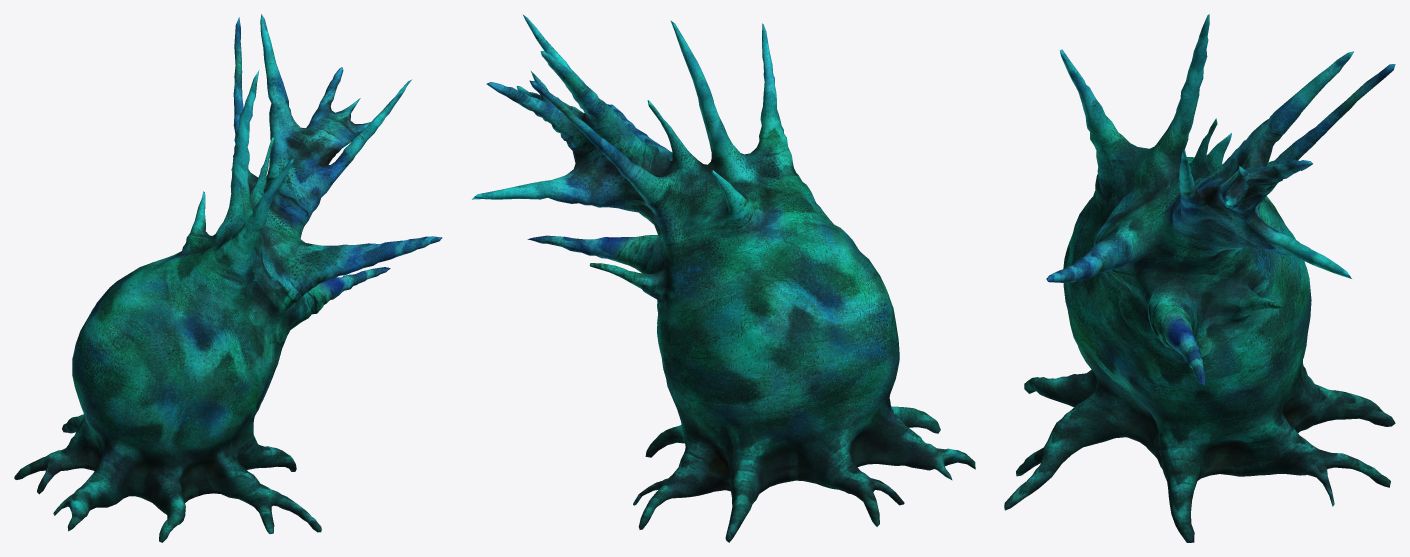
3 views of the same model, side by side, from view 1: azimuth 30°, elevation 25°; view 2: azimuth 150°, elevation 25°; view 3: azimuth 270°, elevation 25° (orthographic). The views are drawn at different scales.
Visible parts, largest first — view 1: SM_APV1_Root_B_LOD0_Root_B_0; view 2: SM_APV1_Root_B_LOD0_Root_B_0; view 3: SM_APV1_Root_B_LOD0_Root_B_0.
Part boxes in pixels (x1=…): SM_APV1_Root_B_LOD0_Root_B_0: x1=14, y1=14, x2=442, y2=542; SM_APV1_Root_B_LOD0_Root_B_0: x1=472, y1=14, x2=975, y2=542; SM_APV1_Root_B_LOD0_Root_B_0: x1=1004, y1=14, x2=1395, y2=542.
Bounding box in the file's own units: 244 × 250 × 173.
